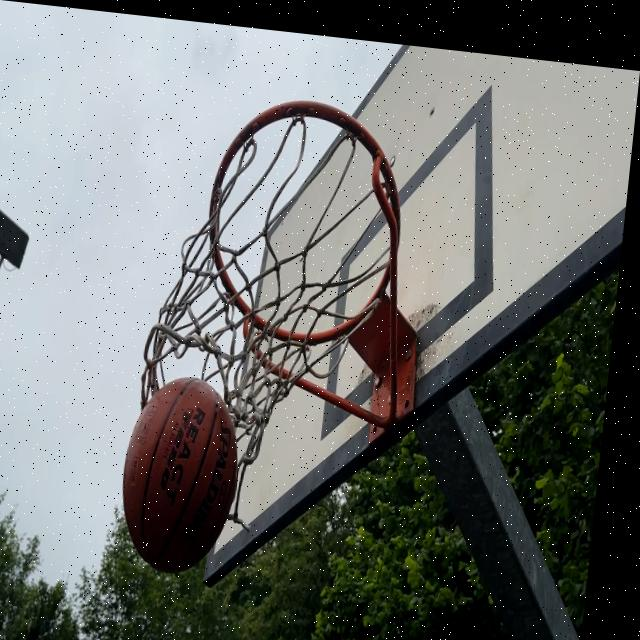Basketball: (114, 368, 247, 577)
